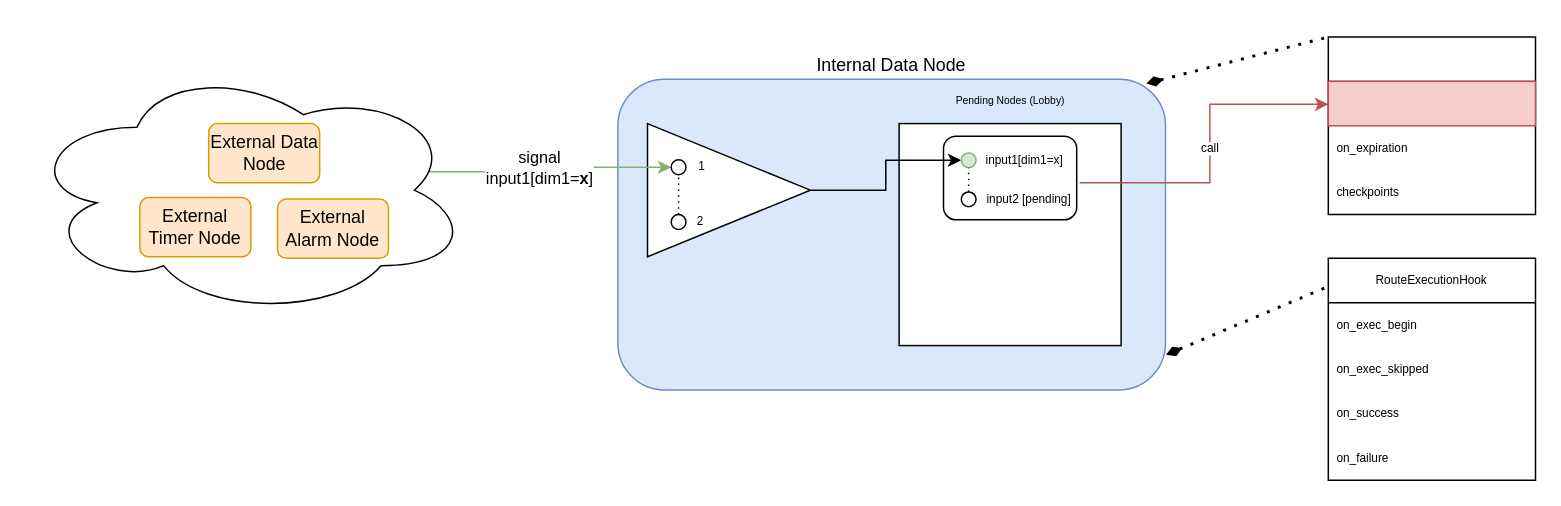
Some shapes in this 1561 by 506 pixel diagram are drawn without their labels. The box of each missing label's shape, as (x1, y1, x2, y2) in pixels:
inputs (1 & 2): (646, 122, 810, 257)
on_pending_node_created: (1327, 80, 1536, 126)
RoutePendingNodeHook: (1327, 36, 1536, 215)
